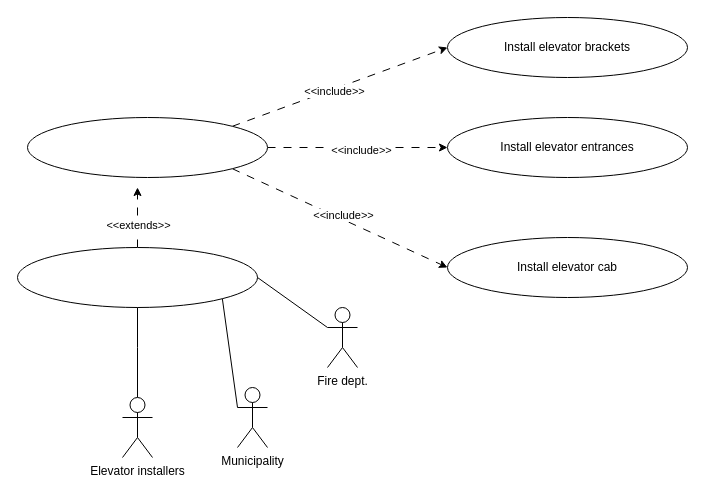
Image size: 705x496. Some labels were removed from this diagram. The shapes that lost their labels are listed below. From the top down, each one's centre as x and y in pixels, then its label:
At point 147,147: "Install elevators".
At point 137,277: "With safety and functional tests".
